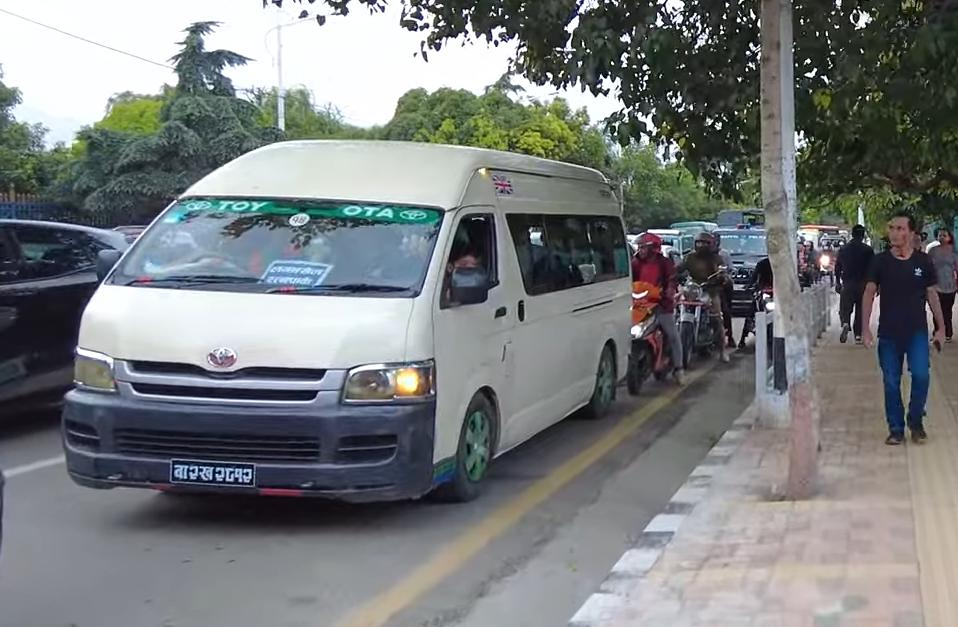bike: (675, 276, 731, 371)
micro_bus: (63, 135, 652, 513)
scooter: (624, 277, 676, 398)
